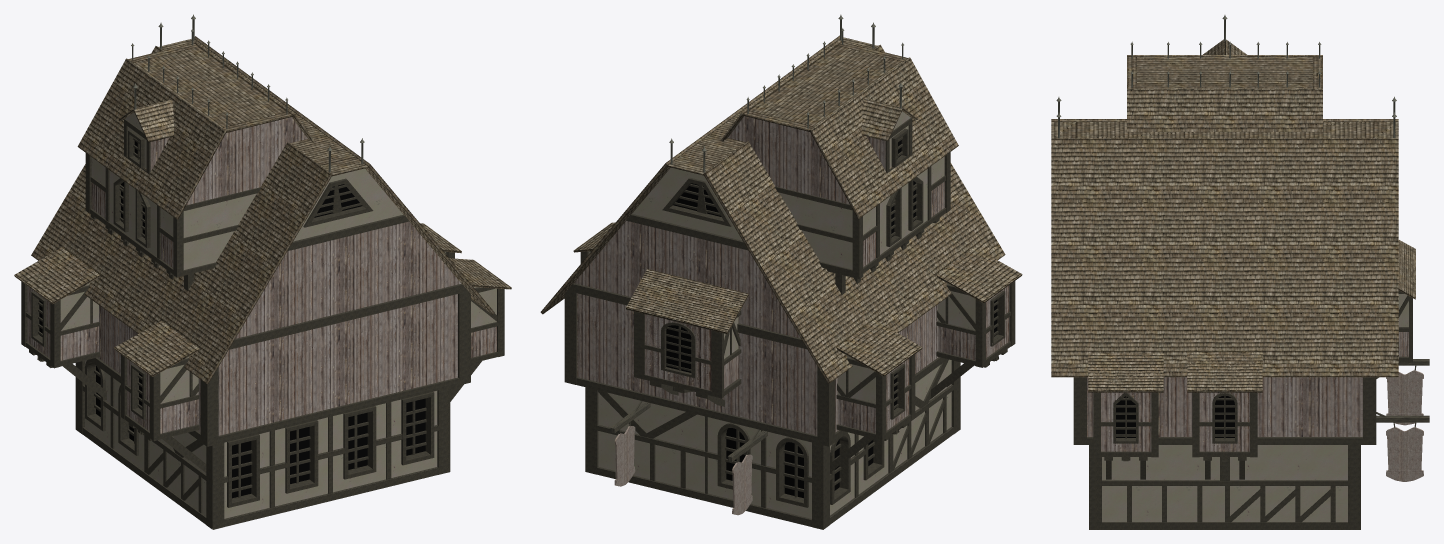
File: Medieval_building.FBX
3 views of the same model, side by side, from view 1: azimuth 30°, elevation 25°; view 2: azimuth 150°, elevation 25°; view 3: azimuth 270°, elevation 25° (orthographic).
Parts seen in each view (by area): view 1: node_304_013, node_304_015, node_304_009, node_304_011, node_304_017, node_304_018, node_304_014, node_304_004, node_304_016, node_304_008, node_304_019, node_304_005 (+6 smaller); view 2: node_304_015, node_304_013, node_304_009, node_304_021, node_304_018, node_304_017, node_304_011, node_304_014, node_304_008, node_304_004, node_304_019, node_304_016 (+9 smaller); view 3: node_304_015, node_304_009, node_304_018, node_304_013, node_304_016, node_304_014, node_304_004, node_304_012, node_304_017, node_304_011, Cube606_002, node_304_021 (+4 smaller).
Boxes of the visible parts, x1,y1,x2,y2 form: node_304_013: (98, 221, 460, 435); node_304_015: (31, 39, 491, 382); node_304_009: (77, 41, 315, 219); node_304_011: (85, 359, 434, 513); node_304_017: (89, 178, 470, 446); node_304_018: (85, 360, 437, 520); node_304_014: (75, 360, 450, 529); node_304_004: (21, 251, 504, 472); node_304_016: (14, 223, 511, 376); node_304_008: (85, 118, 260, 290); node_304_019: (91, 117, 307, 267); node_304_005: (91, 112, 256, 269); node_304_015: (543, 37, 1005, 382); node_304_013: (574, 221, 938, 435); node_304_009: (720, 40, 958, 218); node_304_021: (626, 269, 748, 406); node_304_018: (598, 359, 951, 518); node_304_017: (564, 178, 947, 446); node_304_011: (597, 359, 948, 508); node_304_014: (585, 360, 960, 529); node_304_008: (775, 117, 950, 294); node_304_004: (580, 251, 1015, 472); node_304_019: (728, 116, 944, 267); node_304_016: (573, 222, 1022, 376); node_304_015: (1051, 122, 1398, 376); node_304_009: (1127, 39, 1322, 131); node_304_018: (1102, 445, 1347, 521); node_304_013: (1087, 377, 1362, 436); node_304_016: (1088, 351, 1262, 392); node_304_014: (1089, 445, 1360, 529); node_304_004: (1093, 392, 1257, 479); node_304_012: (1101, 392, 1249, 451); node_304_017: (1073, 377, 1376, 444); node_304_011: (1127, 457, 1335, 522); Cube606_002: (1376, 412, 1429, 481); node_304_021: (1376, 240, 1415, 378).
Bounding box in the file's own units: 4.11 × 4.35 × 3.76.
Materials: 20 (20 with a texture image).
